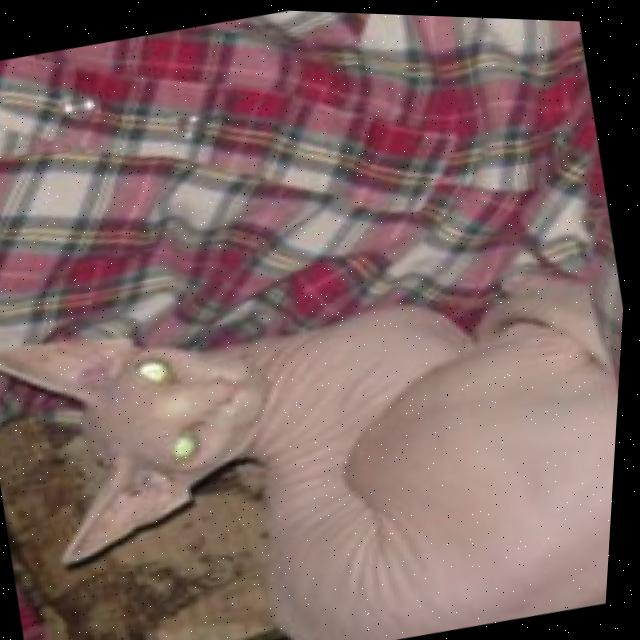Sphynx: (0, 214, 630, 640)
